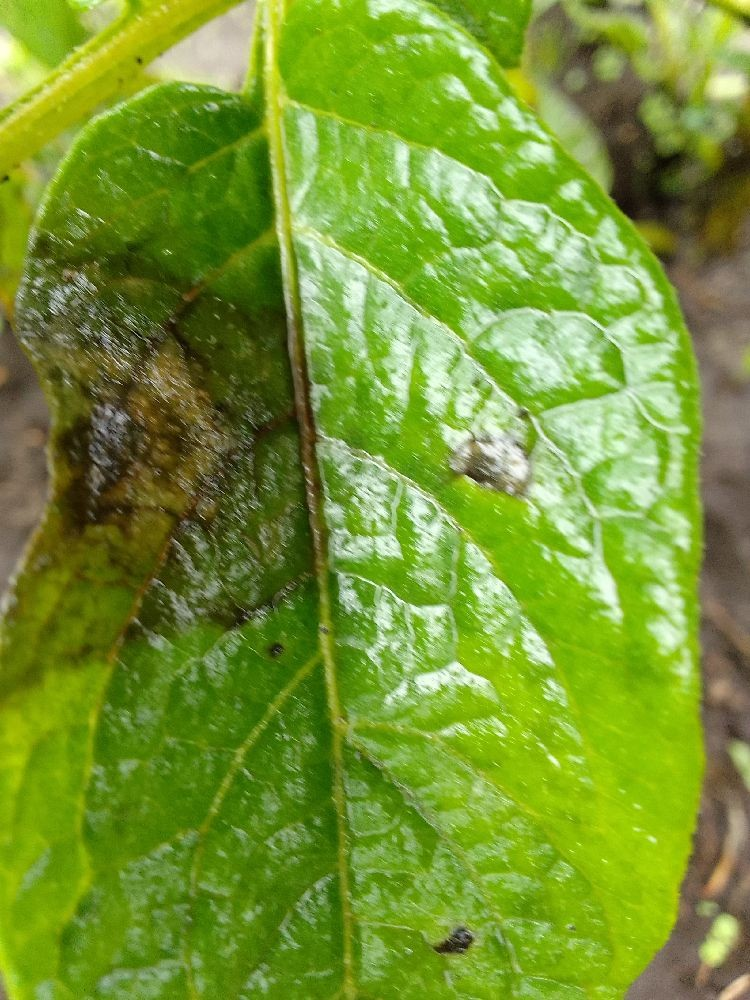late_blight: (0, 157, 389, 764), (525, 0, 749, 999)
